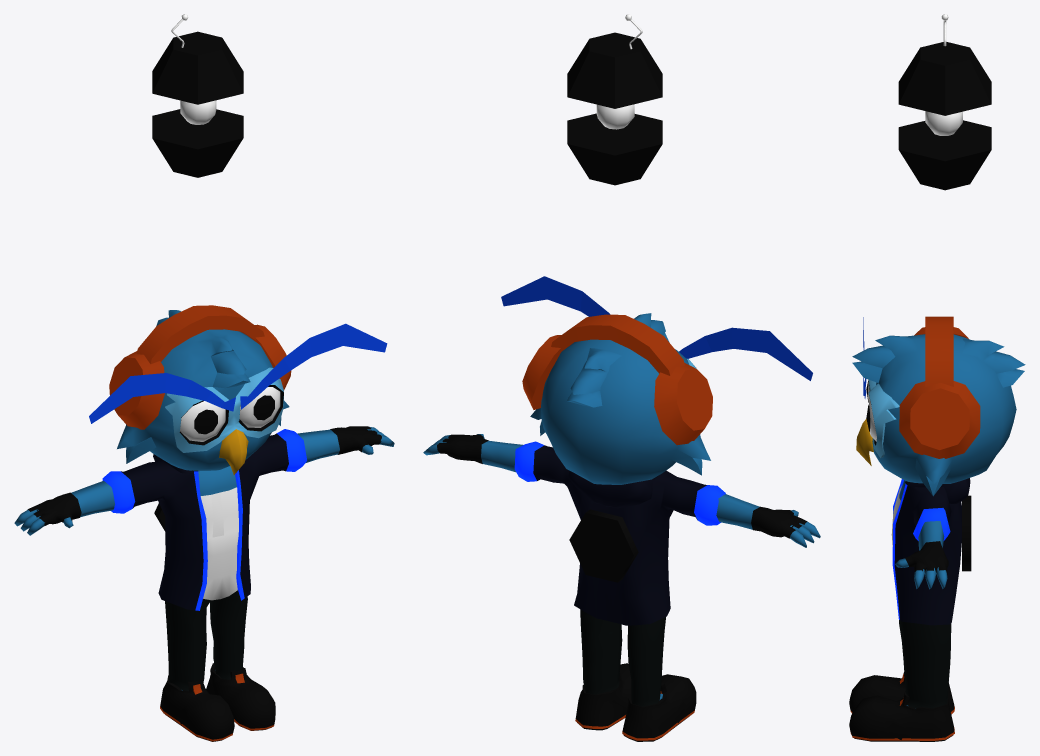
Rendered from Tekno_Model_3.fbx.
3 views of the same model, side by side, from view 1: azimuth 30°, elevation 25°; view 2: azimuth 150°, elevation 25°; view 3: azimuth 270°, elevation 25° (orthographic). The views are drawn at different scales.
Parts seen in each view (by area): view 1: jacket, Object018, Plane009, shoes, pants, Cylinder010, Plane010, Cylinder011, main body, shirt, Sphere004 (×2), Object024 (+4 smaller); view 2: Object018, jacket, Plane009, Cylinder010, pants, shoes, Cylinder011, Plane010, Cylinder003, main body, hood, Object019 (+3 smaller); view 3: Object018, Plane009, jacket, Cylinder010, shoes, Cylinder011, pants, Object019, main body, Object024, right glove, Cylinder003 (+3 smaller).
Part boxes in pixels (x1,y1,x2,y2): jacket: (102, 429, 307, 610); Object018: (117, 329, 289, 471); Plane009: (109, 305, 291, 429); shoes: (160, 663, 275, 741); pants: (165, 590, 247, 690); Cylinder010: (152, 14, 243, 104); Plane010: (89, 323, 387, 423); Cylinder011: (152, 109, 243, 177); main body: (14, 426, 394, 690); shirt: (200, 487, 238, 600); Sphere004 (×2): (180, 100, 280, 441); Object024: (165, 367, 283, 452); Object018: (530, 313, 710, 484); jacket: (514, 441, 725, 625); Plane009: (522, 314, 712, 445); Cylinder010: (567, 14, 662, 108); pants: (580, 609, 665, 706); shoes: (575, 663, 696, 741); Cylinder011: (567, 113, 662, 185); Plane010: (501, 276, 812, 380); Cylinder003: (569, 509, 638, 582); main body: (423, 434, 820, 699); hood: (568, 470, 659, 508); Object019: (567, 348, 621, 407); Object018: (852, 334, 1016, 496); Plane009: (899, 316, 980, 458); jacket: (892, 479, 961, 625); Cylinder010: (898, 14, 991, 115); shoes: (849, 672, 954, 741); Cylinder011: (898, 120, 991, 190); pants: (899, 620, 951, 708); Object019: (962, 338, 1025, 387); main body: (895, 480, 947, 705); Object024: (868, 380, 899, 458); right glove: (905, 541, 948, 573); Cylinder003: (962, 495, 971, 571).
Bounding box in the file's own units: 79.37 × 142 × 32.41.
